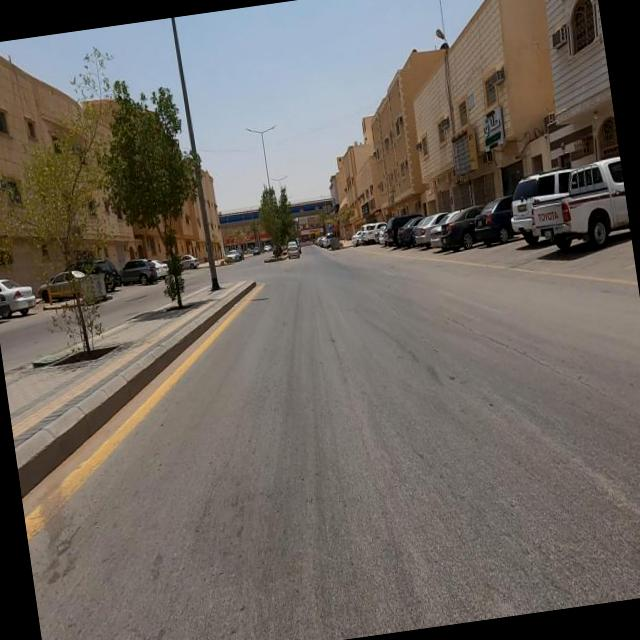debris: (414, 94, 504, 212)
